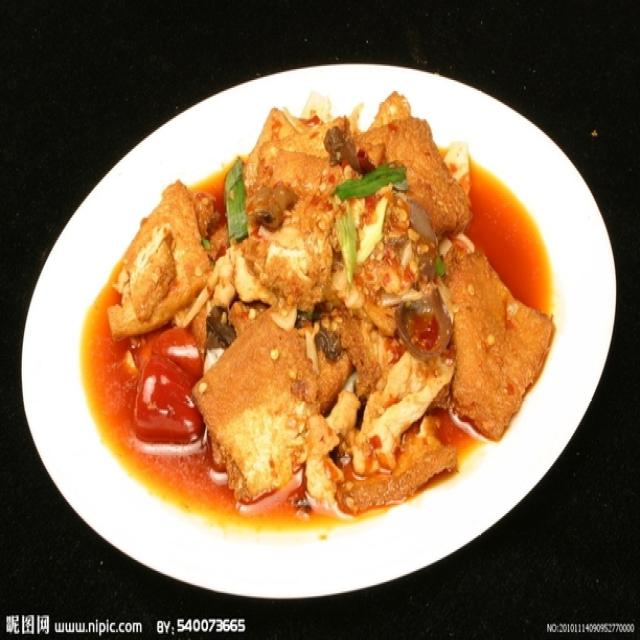豆腐料理: (88, 85, 540, 516)
